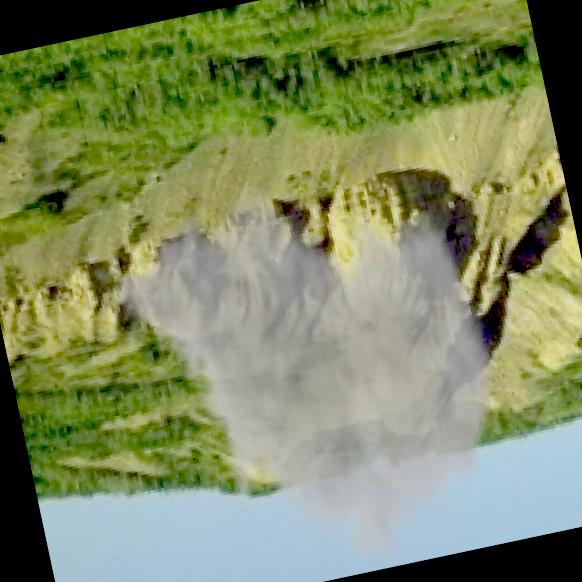smoke: (93, 135, 533, 582)
